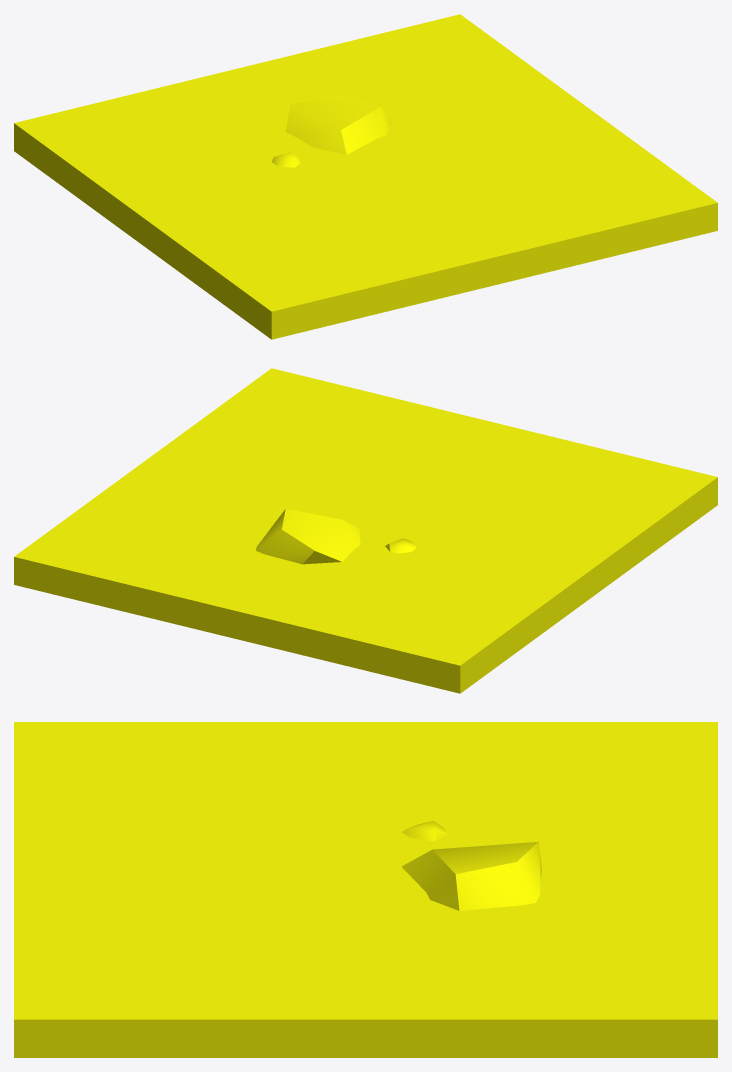
File: kaykit-floor-dirt-small-c.glb
3 renders of one model, top to bottom at view 1: azimuth 30°, elevation 25°; view 2: azimuth 150°, elevation 25°; view 3: azimuth 270°, elevation 25°, orthographic. The views are drawn at different scales.
Visible parts, largest first — view 1: floor_dirt_small_C; view 2: floor_dirt_small_C; view 3: floor_dirt_small_C.
Boxes of the visible parts, x1,y1,x2,y2 form: floor_dirt_small_C: (14,14,717,339); floor_dirt_small_C: (14,368,717,693); floor_dirt_small_C: (14,722,717,1057).
Size of the model in its own units: 2 by 0.2085 by 2.
